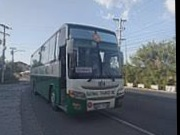bus: (28, 21, 125, 118)
